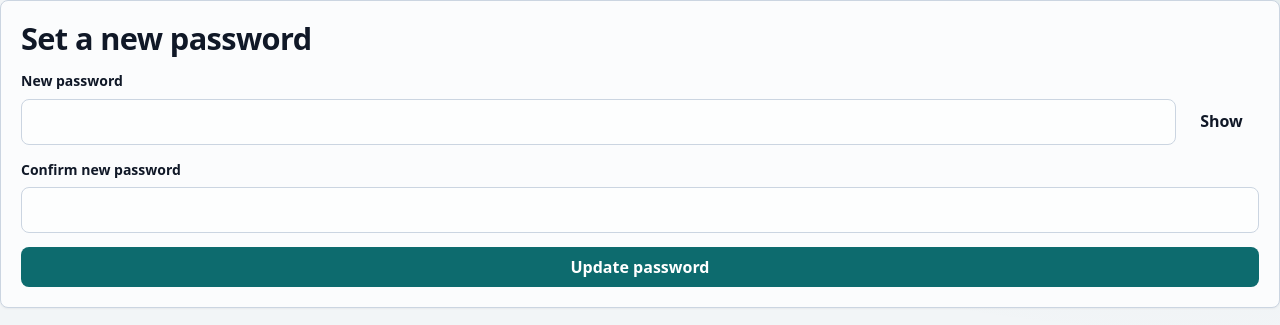
it: UpdatePasswordPage › does not claim success when the update fails
This screenshot has width=1280, height=325.
Type "NewPassw0rd!" into the password field labelled "New password" at (598, 122), box [21,98,1176,145]
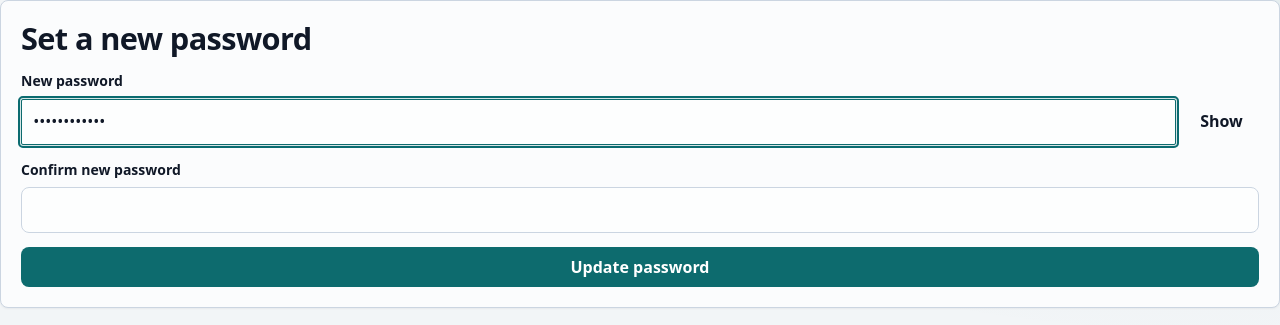
Type "NewPassw0rd!" into the password field labelled "Confirm new password" at (640, 210), box [21,187,1259,233]
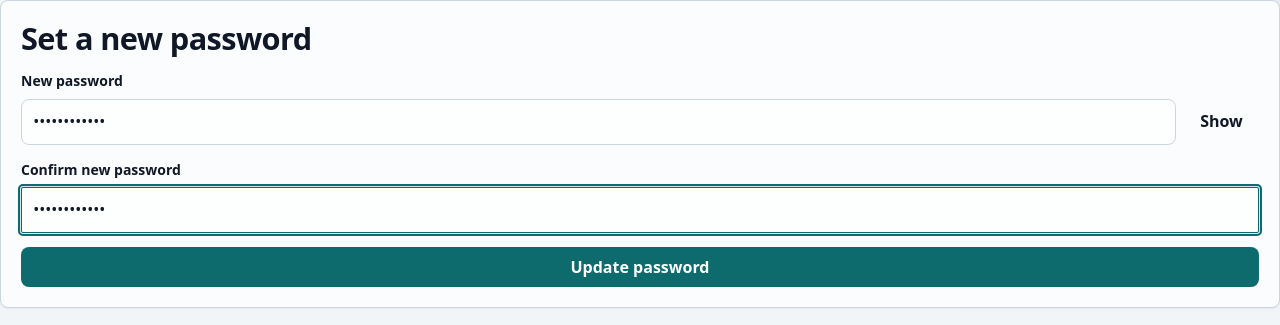
Click the button "Update password" at (640, 267), box [21,247,1259,287]
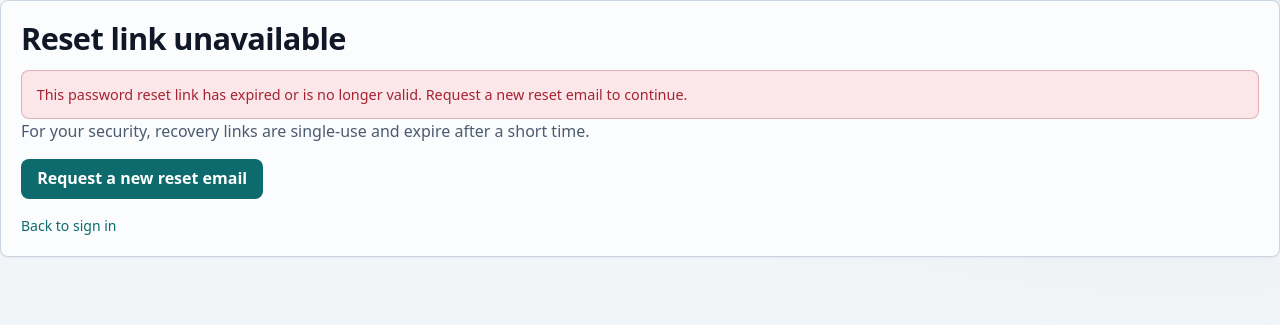
Expected: the message shows "expired or is no longer valid", [37,85,687,104]
